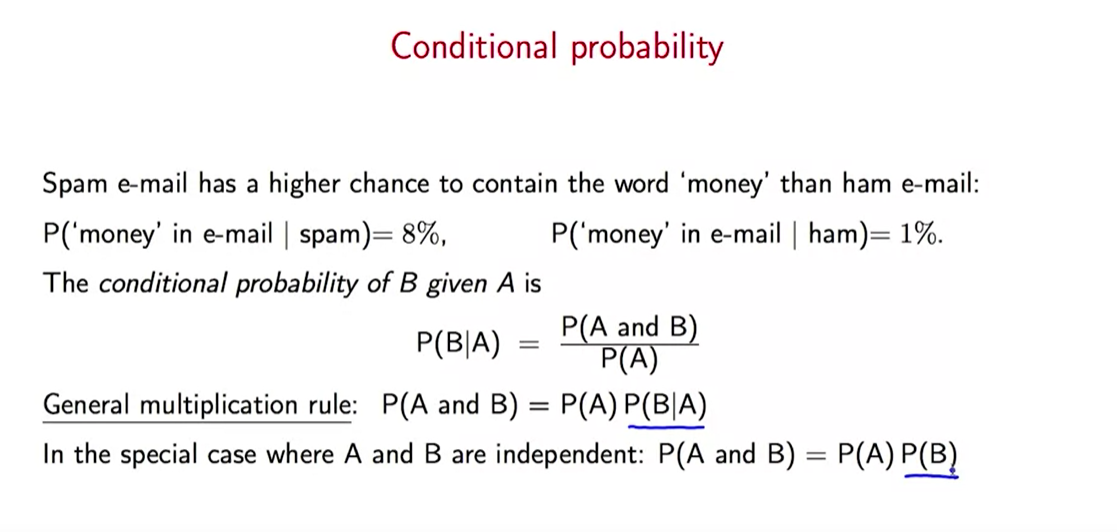equation: (414, 313, 704, 376), (37, 217, 440, 253), (548, 218, 936, 253), (656, 436, 958, 470), (382, 392, 709, 423)
text: (37, 164, 987, 204), (44, 440, 651, 471), (42, 265, 542, 302), (387, 23, 729, 75), (42, 388, 361, 426)
